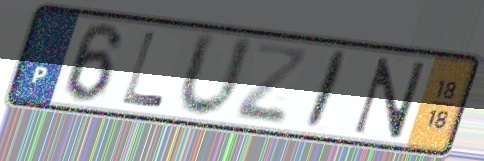6: (63, 20, 127, 107)
I: (300, 48, 353, 133)
L: (118, 29, 168, 110)
N: (349, 55, 431, 141)
U: (174, 28, 258, 122)
Z: (231, 41, 312, 128)
